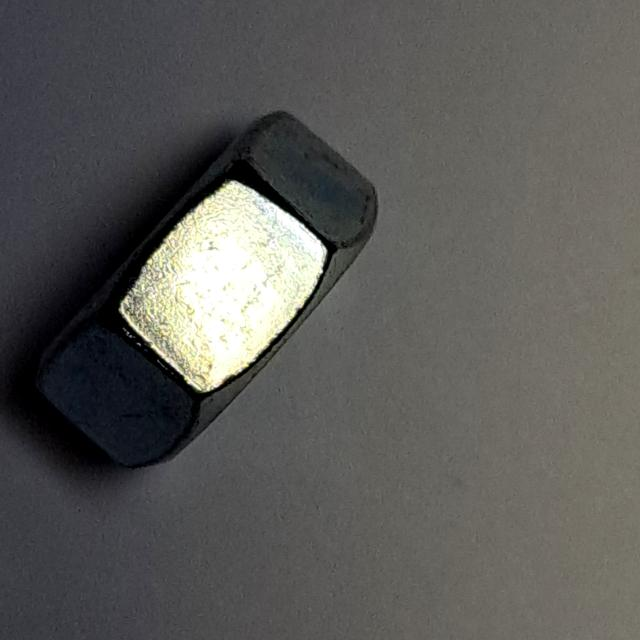Side_Excellent: (4, 102, 401, 486)
